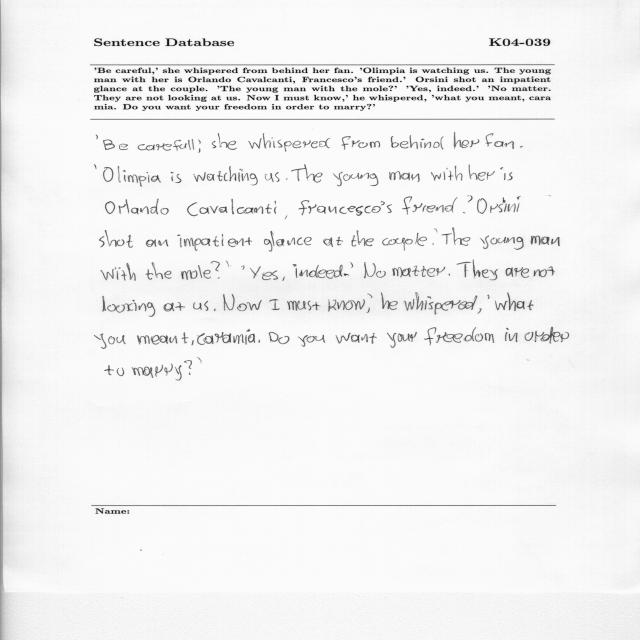word: (404, 293, 478, 315), (248, 133, 330, 152), (187, 199, 276, 216), (298, 200, 392, 216), (178, 234, 253, 251), (424, 327, 494, 345), (193, 167, 258, 186), (103, 166, 161, 187), (103, 296, 155, 317), (105, 199, 169, 215), (264, 231, 312, 252), (402, 197, 457, 215), (132, 364, 182, 381), (456, 260, 498, 280), (382, 233, 427, 251), (477, 196, 521, 214), (293, 264, 343, 279), (525, 327, 569, 344), (181, 261, 220, 280), (391, 136, 443, 150), (495, 293, 534, 311), (138, 139, 194, 151), (223, 294, 262, 311), (137, 332, 188, 345), (480, 235, 524, 250), (333, 172, 378, 186), (101, 263, 136, 281), (100, 230, 133, 248), (393, 266, 446, 277), (291, 165, 323, 183), (341, 136, 380, 150), (442, 228, 471, 246), (94, 333, 126, 349), (328, 299, 365, 312), (387, 332, 417, 348), (146, 262, 172, 280), (431, 166, 462, 181), (336, 333, 377, 344), (486, 133, 514, 149), (469, 164, 495, 181), (197, 332, 231, 345), (454, 132, 479, 149), (250, 267, 278, 281), (351, 231, 374, 247), (233, 329, 255, 345), (389, 171, 420, 182), (287, 301, 320, 311), (298, 335, 325, 347), (218, 133, 236, 150), (381, 292, 398, 310), (531, 236, 560, 246), (505, 267, 529, 278), (269, 332, 290, 344), (103, 140, 128, 150), (533, 267, 555, 278), (164, 302, 185, 312), (105, 365, 124, 376), (323, 237, 343, 247), (364, 262, 376, 278), (505, 328, 518, 342), (146, 239, 168, 247), (500, 167, 513, 180), (193, 301, 208, 311), (265, 172, 279, 182), (171, 172, 182, 183), (269, 299, 280, 310), (184, 360, 192, 375), (376, 271, 386, 278), (467, 196, 473, 203), (198, 140, 201, 153), (212, 141, 216, 148), (477, 309, 482, 314), (368, 294, 373, 298), (198, 358, 202, 363), (226, 261, 229, 267), (351, 262, 354, 268), (367, 307, 370, 313), (344, 273, 349, 276), (191, 340, 194, 345), (435, 229, 438, 233), (282, 277, 285, 281), (487, 295, 490, 299), (243, 265, 245, 270), (96, 135, 98, 139), (95, 165, 97, 169), (285, 216, 287, 220), (258, 340, 260, 343), (286, 178, 288, 180), (432, 243, 434, 245), (449, 274, 451, 276), (214, 309, 216, 311), (520, 146, 523, 147), (463, 212, 465, 213), (241, 266, 243, 267)
